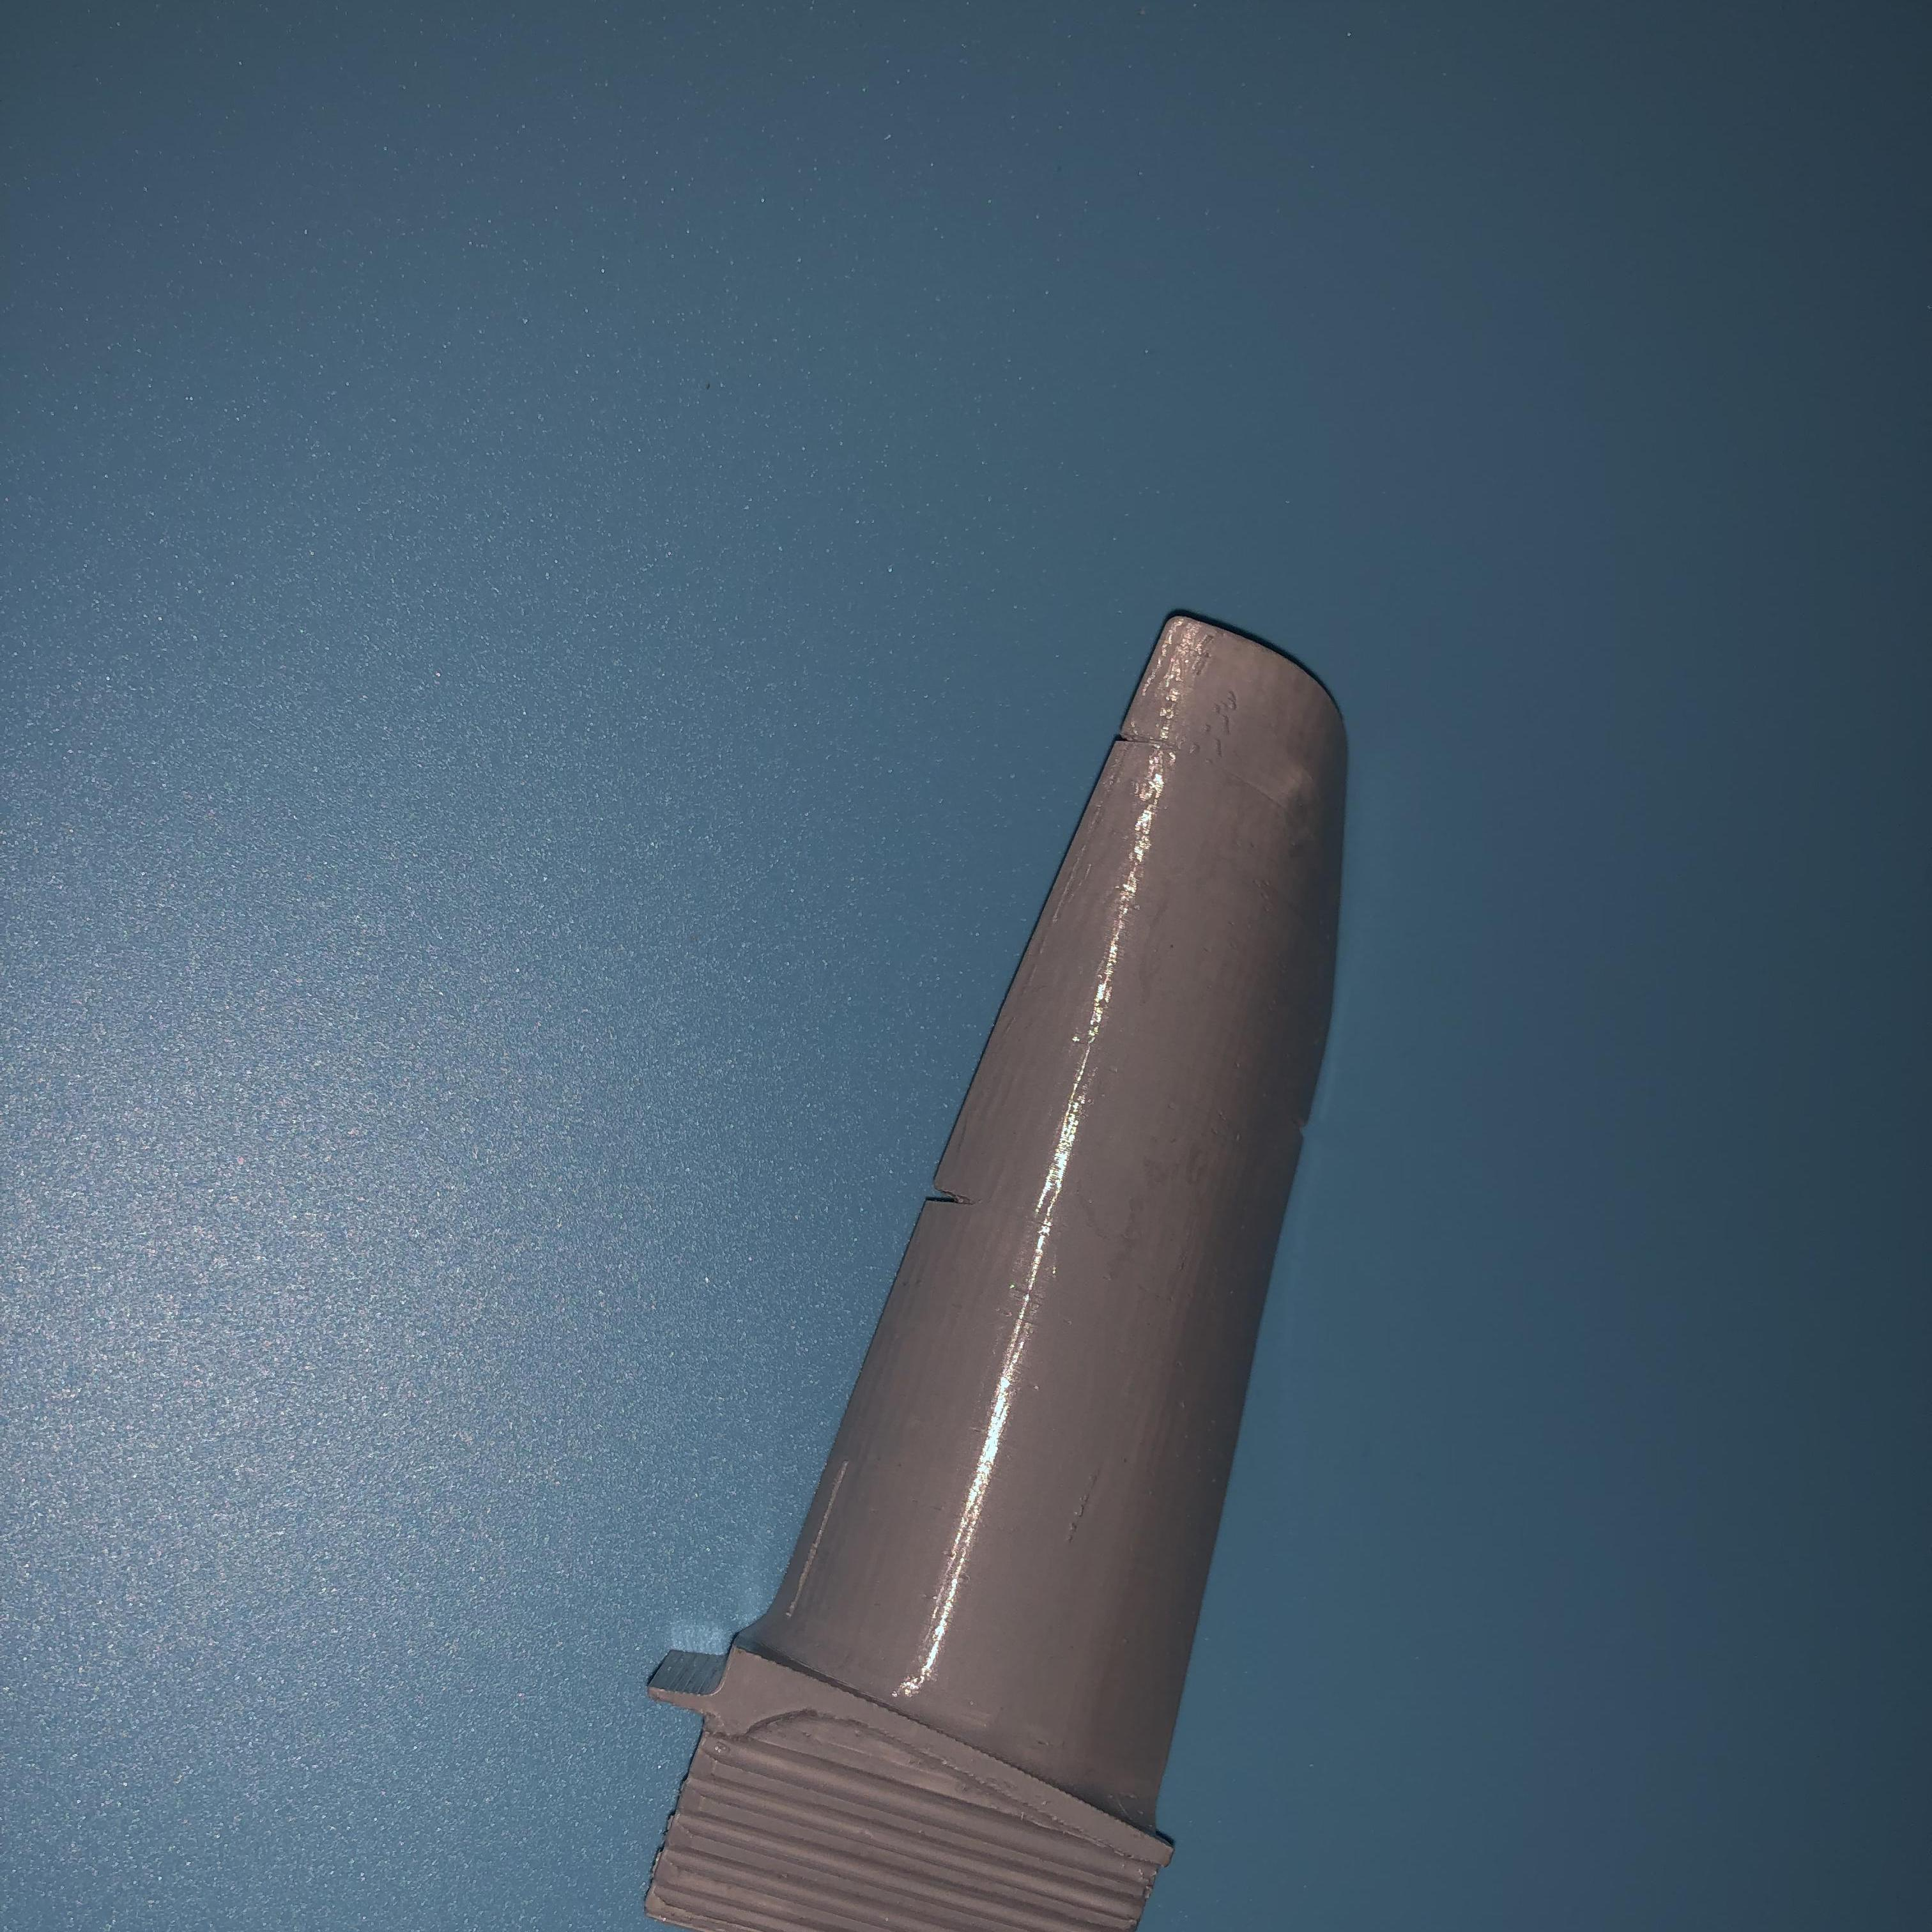groove: (925, 1171, 993, 1217), (1113, 720, 1162, 748), (1290, 1120, 1322, 1143)
